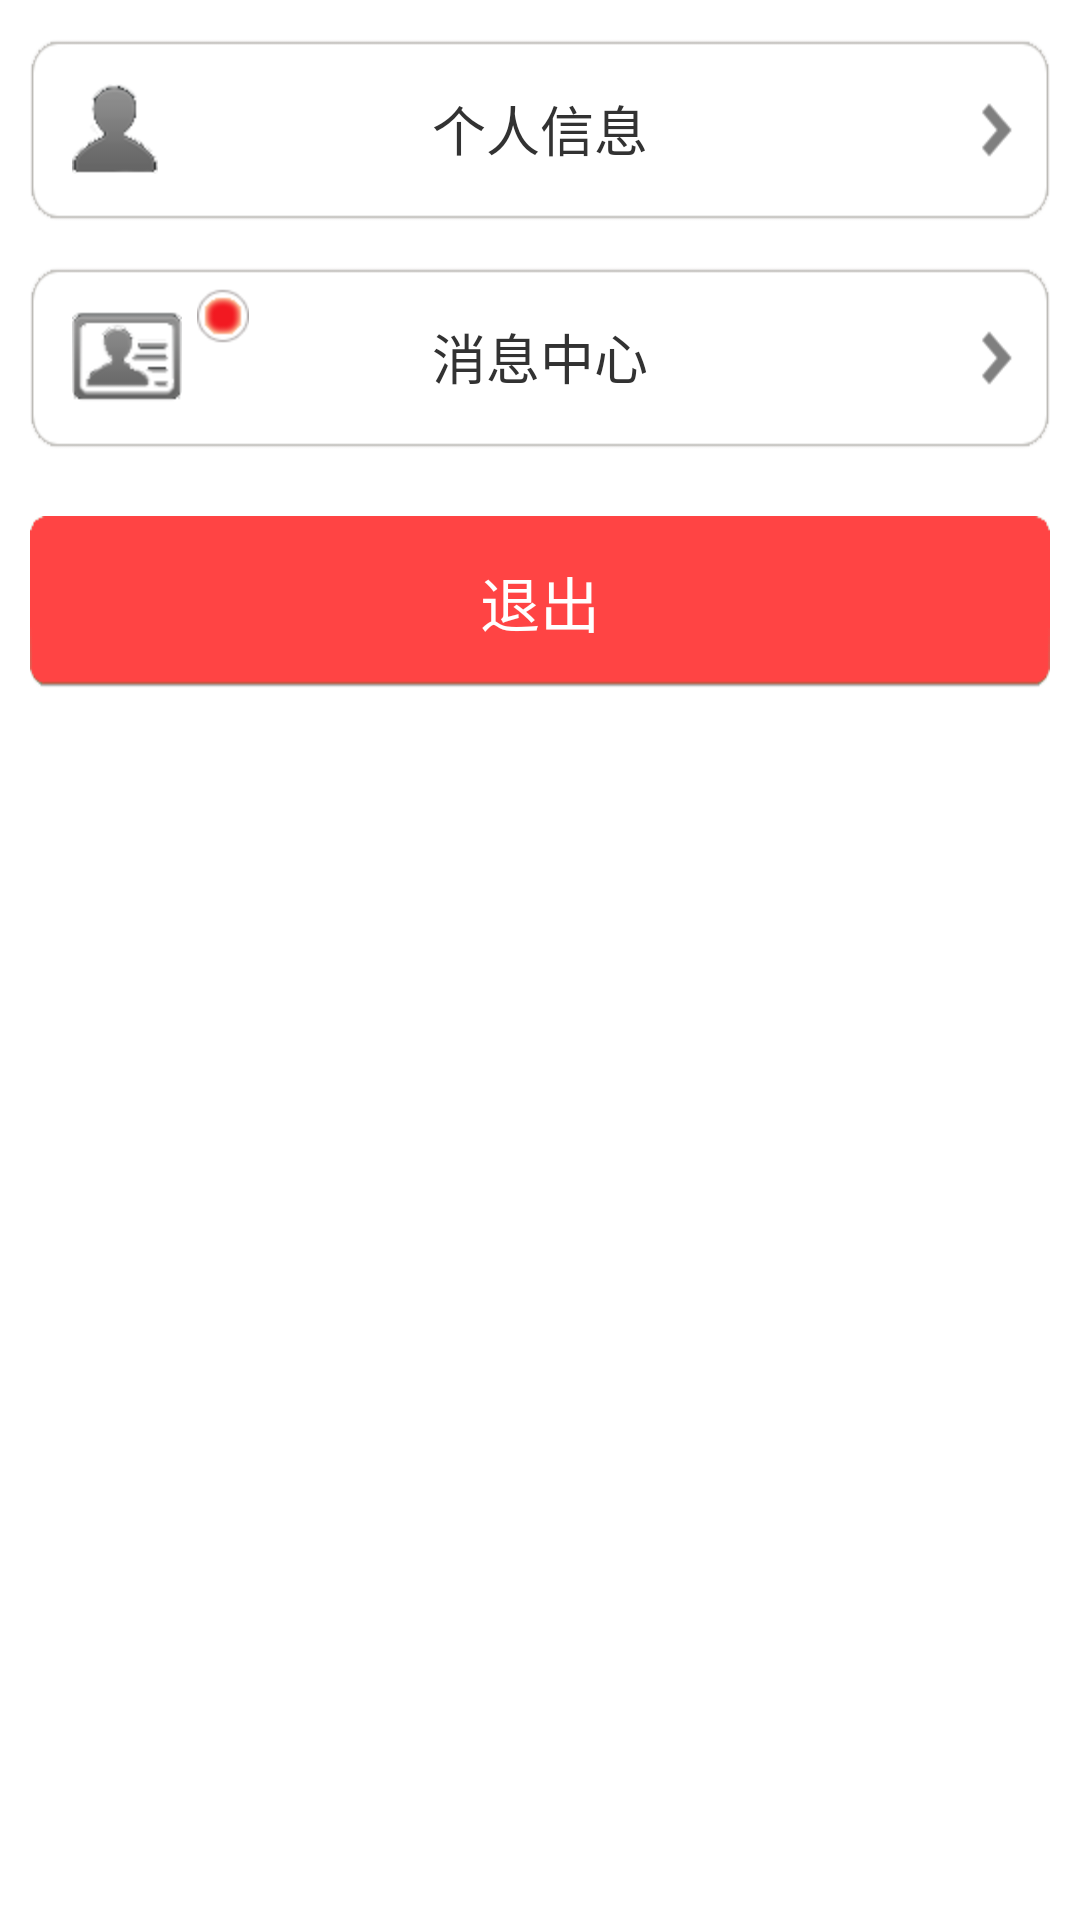

Icon click points for this 1080x1920 phone screenshot, format [x,y]:
aboutme bar info: [115,129]
aboutme bar info center: [127,356]
notification: [223,316]
